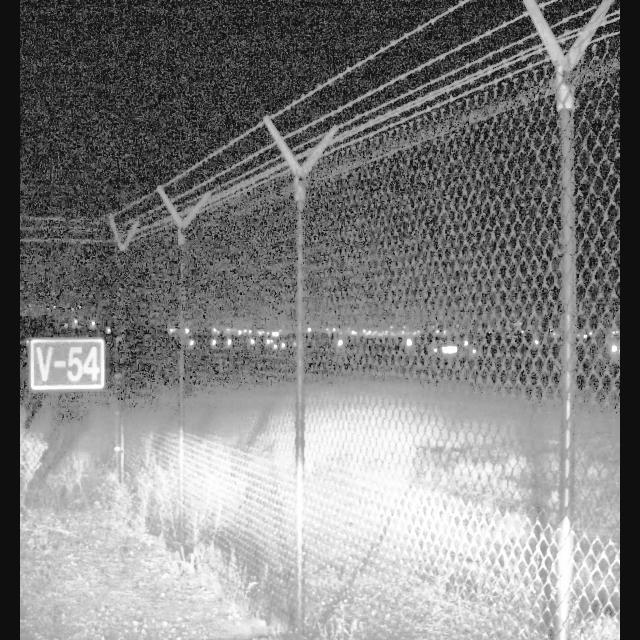Sign: (31, 339, 104, 389)
